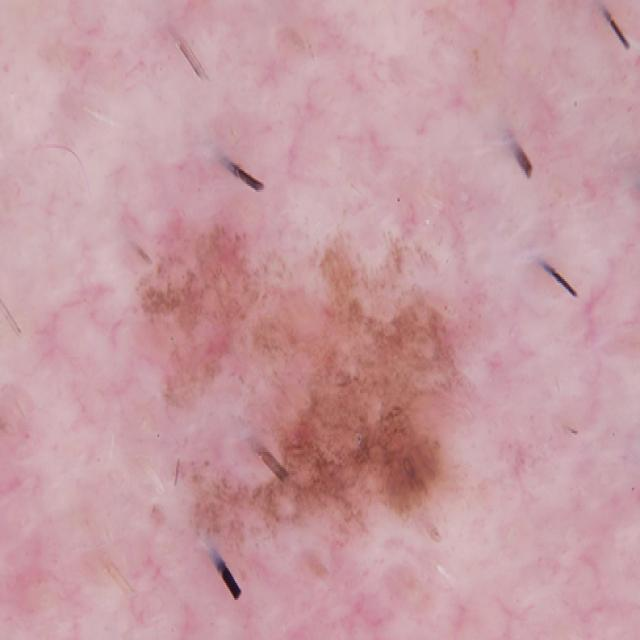Keratosis: (140, 179, 476, 528)
